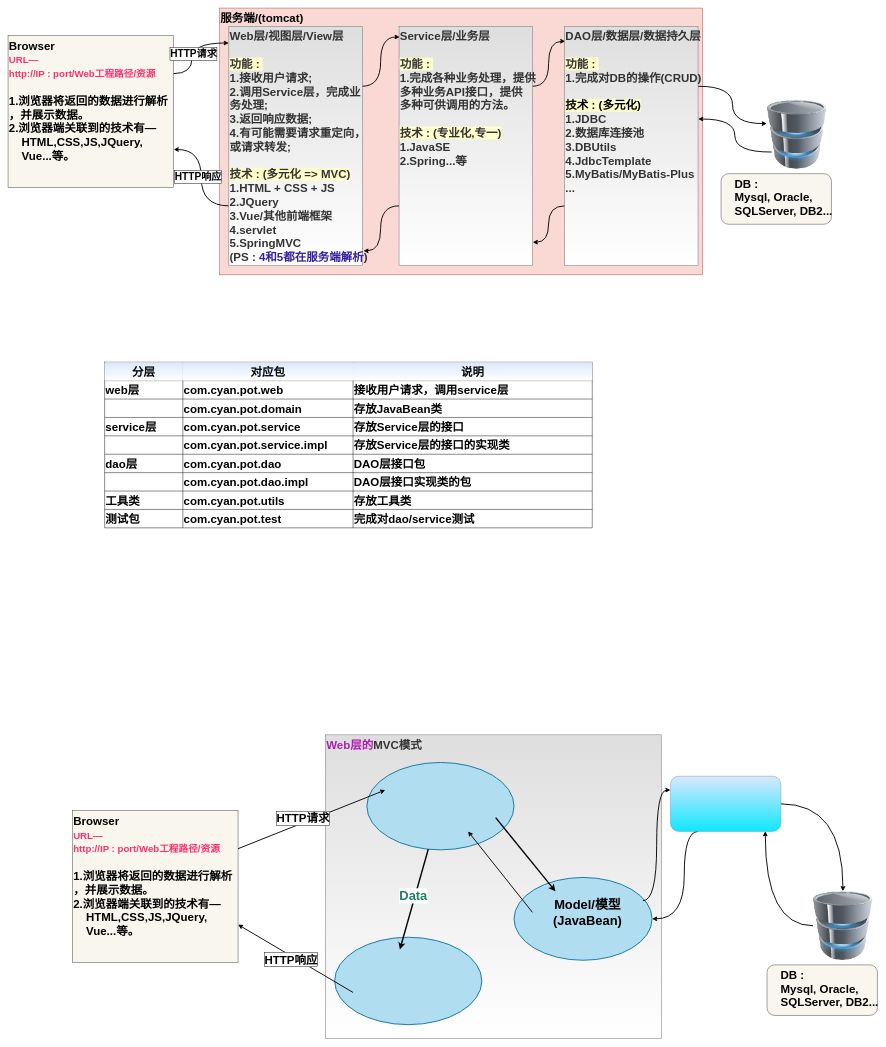
Image size: 886x1047. Some labels were removed from this diagram. Each missing label, with the centre of its shape:
Controller/控制器(servlet): point (440, 806)
Service层/DAO层: point (725, 803)
View/视图 (HTML, Vue...): point (408, 981)
